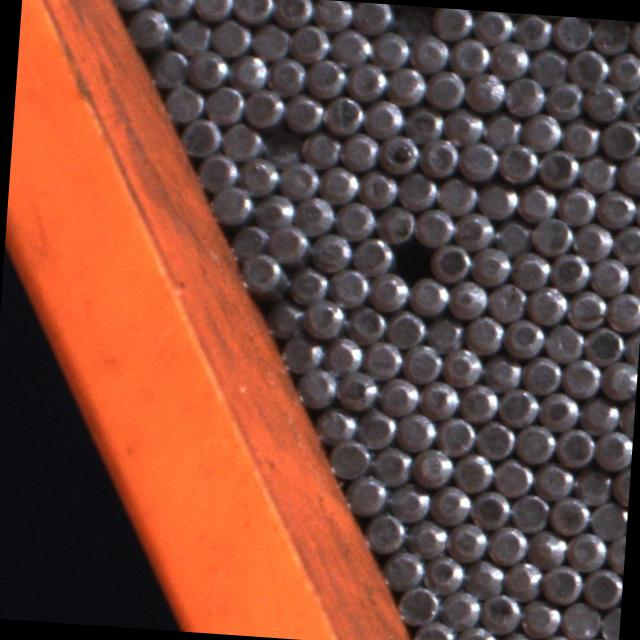tool: (238, 249, 284, 293), (362, 508, 406, 552), (404, 514, 448, 558), (327, 435, 371, 478), (336, 366, 378, 411), (242, 84, 285, 127), (202, 82, 245, 125), (428, 239, 471, 282), (386, 479, 429, 522), (538, 388, 581, 431), (302, 296, 346, 338), (439, 584, 481, 628), (479, 590, 521, 634), (126, 6, 170, 48), (397, 581, 441, 623), (582, 565, 624, 608), (555, 183, 597, 226), (328, 24, 371, 66), (541, 561, 583, 604), (309, 230, 352, 272), (413, 204, 455, 247), (519, 595, 561, 638), (394, 408, 436, 451), (377, 130, 419, 173), (402, 339, 444, 382), (295, 365, 337, 408), (418, 135, 460, 178), (346, 472, 388, 515), (320, 332, 363, 374), (592, 426, 634, 469), (284, 262, 327, 304), (536, 144, 578, 187), (344, 301, 386, 344), (559, 598, 602, 640), (429, 482, 471, 525), (210, 182, 252, 225), (353, 406, 396, 448), (367, 268, 409, 311), (186, 46, 229, 88), (350, 233, 393, 275), (470, 486, 512, 529), (582, 323, 625, 365), (565, 286, 607, 328), (322, 92, 364, 134), (449, 34, 491, 76), (496, 140, 538, 182), (362, 336, 404, 378), (436, 174, 478, 216), (554, 424, 596, 466), (474, 416, 516, 458), (378, 374, 420, 416), (334, 197, 376, 239), (521, 109, 563, 151), (498, 384, 540, 426), (526, 284, 568, 326), (544, 78, 586, 120), (169, 13, 211, 55), (362, 96, 404, 138), (502, 316, 544, 358), (492, 456, 534, 498), (396, 168, 438, 210), (220, 120, 262, 162), (327, 264, 369, 306), (598, 116, 640, 158), (424, 66, 466, 108), (485, 520, 527, 562), (288, 20, 330, 62), (418, 376, 460, 418), (345, 57, 387, 99), (293, 193, 335, 235), (565, 528, 607, 570), (447, 278, 489, 320), (452, 449, 494, 491), (512, 420, 554, 462), (385, 63, 427, 105), (503, 73, 545, 115), (560, 354, 602, 396), (370, 442, 412, 484), (550, 249, 592, 291), (452, 208, 494, 250), (434, 412, 476, 454), (282, 90, 324, 132), (530, 213, 572, 255), (582, 80, 624, 122), (528, 44, 570, 86), (520, 352, 562, 394), (464, 70, 506, 112), (238, 152, 280, 194), (508, 490, 550, 532), (374, 202, 416, 244), (411, 444, 453, 486), (544, 319, 586, 361), (382, 548, 424, 590), (267, 222, 309, 264), (146, 44, 188, 86), (402, 101, 444, 143), (180, 114, 222, 156), (422, 550, 464, 592), (568, 44, 610, 86), (264, 129, 306, 171), (390, 236, 432, 278), (447, 518, 488, 561), (305, 54, 346, 97), (456, 381, 498, 422), (594, 187, 636, 228), (487, 280, 528, 322), (516, 180, 557, 222), (463, 311, 504, 353), (370, 26, 411, 68), (577, 150, 618, 192), (549, 493, 590, 535), (470, 242, 511, 284), (338, 128, 379, 170), (589, 253, 630, 295), (384, 307, 426, 348), (408, 274, 449, 316), (489, 37, 531, 78), (266, 52, 307, 94), (440, 345, 482, 386), (526, 525, 568, 566), (508, 248, 550, 289), (356, 166, 397, 208), (408, 30, 449, 72), (578, 392, 619, 434), (480, 351, 522, 392), (441, 105, 483, 146), (463, 554, 505, 595), (572, 218, 613, 260), (280, 331, 322, 372), (502, 556, 543, 598), (313, 402, 355, 443), (252, 187, 294, 228), (458, 137, 498, 180), (300, 126, 341, 167), (228, 49, 269, 90), (250, 19, 291, 60), (162, 81, 203, 122), (481, 108, 522, 149), (423, 311, 464, 352), (559, 115, 600, 156), (476, 179, 516, 221), (210, 14, 250, 56), (570, 464, 612, 504), (278, 158, 320, 198), (194, 150, 236, 190), (588, 497, 628, 539), (532, 458, 572, 499), (317, 162, 358, 202), (491, 215, 532, 255), (264, 296, 304, 336), (228, 218, 268, 258), (600, 358, 638, 399), (590, 18, 630, 56), (512, 12, 552, 50), (552, 15, 592, 50), (391, 4, 431, 39), (472, 10, 513, 44), (606, 289, 640, 329), (607, 49, 640, 90), (432, 7, 472, 40), (352, 1, 392, 34), (312, 0, 353, 31), (611, 221, 640, 262), (272, 0, 314, 27), (616, 150, 640, 192), (231, 0, 272, 24), (413, 617, 455, 640), (192, 0, 233, 21), (453, 620, 496, 640), (599, 601, 621, 640), (605, 530, 626, 570), (610, 464, 631, 504), (622, 84, 640, 126), (151, 0, 194, 16), (497, 629, 538, 640), (109, 0, 151, 10), (536, 631, 578, 640), (630, 21, 640, 55), (577, 632, 618, 640)
